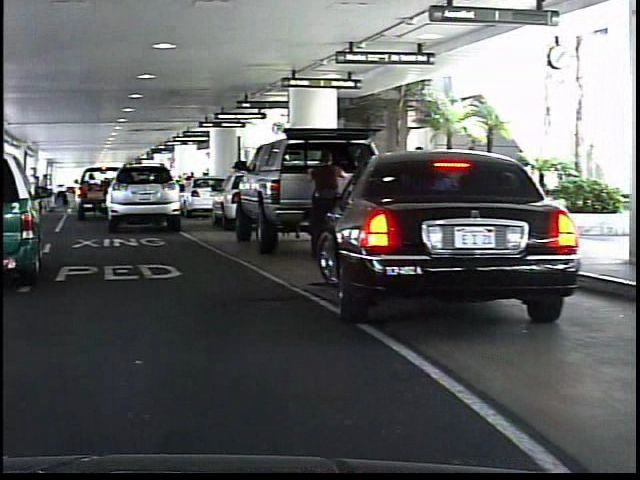person: (299, 149, 351, 256)
